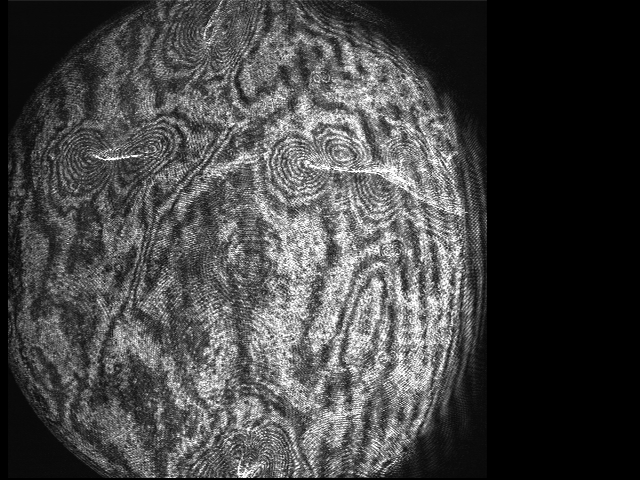plume: (52, 131, 182, 199), (162, 1, 266, 80), (259, 134, 366, 208)
